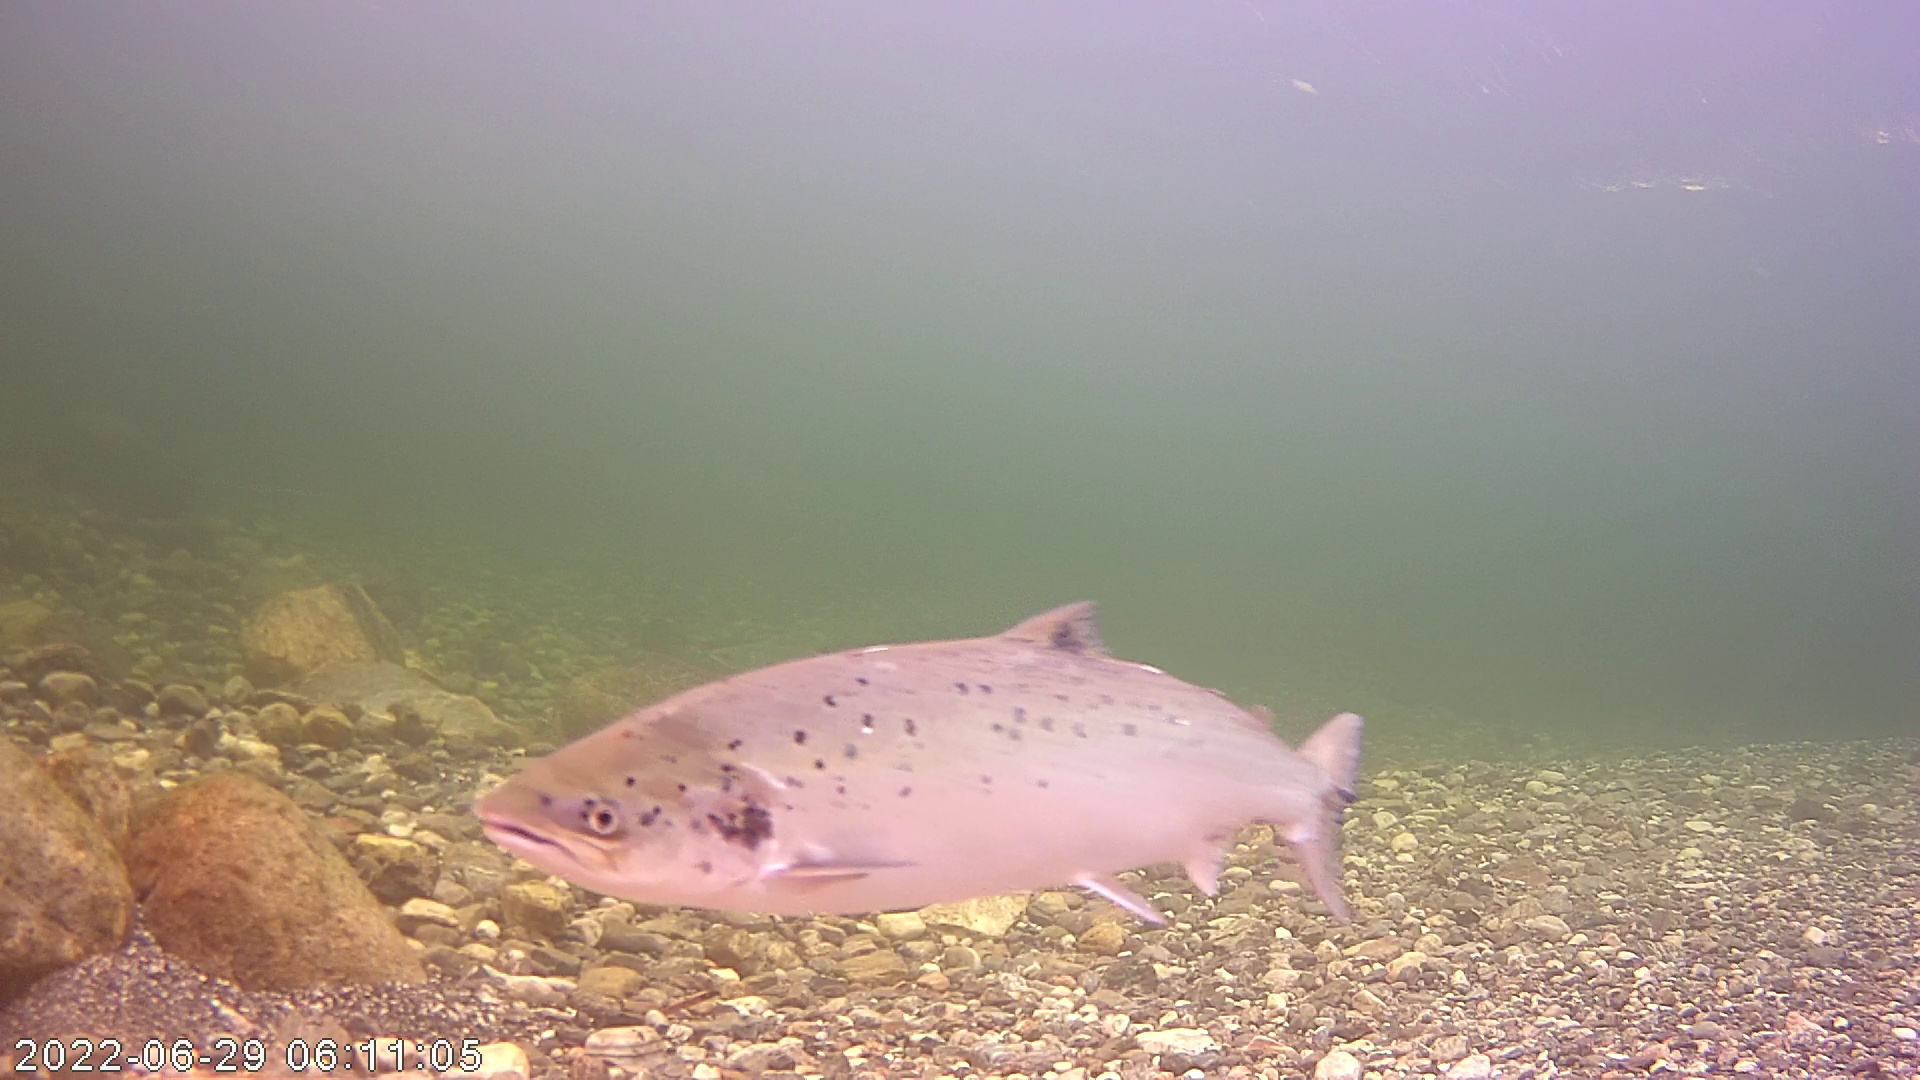salmon: (512, 563, 1373, 945)
